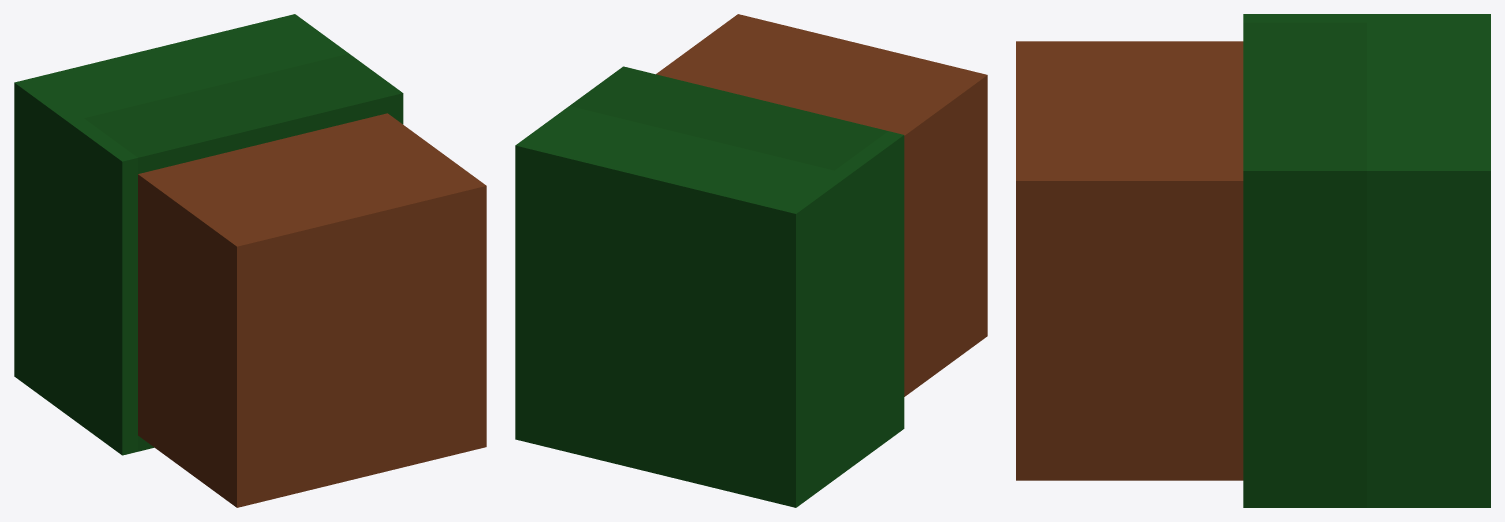
Rendered from NPC8_rightarm_1.obj.
The picture shows the model from 3 angles, left to right: view 1: azimuth 30°, elevation 25°; view 2: azimuth 150°, elevation 25°; view 3: azimuth 270°, elevation 25°; orthographic projection. The views are drawn at different scales.
Bounding box in the file's own units: 1.8 × 1.8 × 2.3.
1 material, 1 textured.
